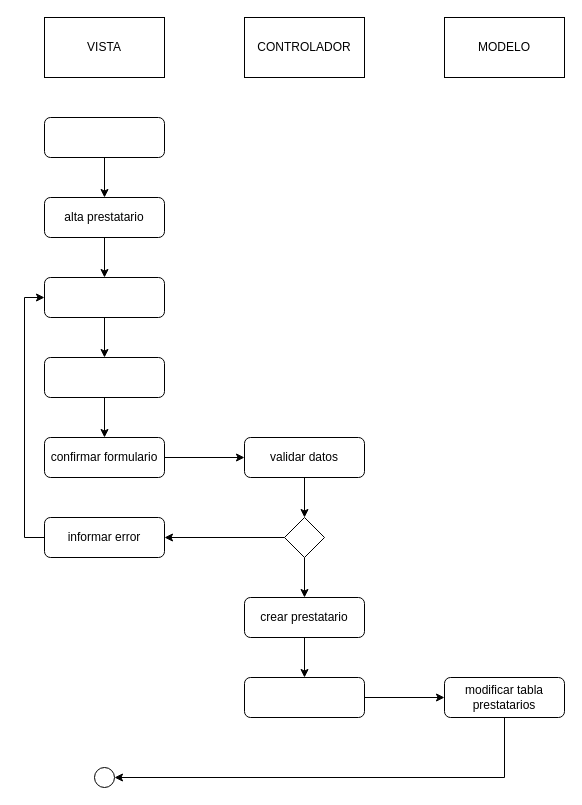
Image size: 582x805. Some labels were removed from this diagram. The shapes that lost their labels are listed below. From the top down, each one's centre as x and y in pixels, then its label:
[104,137]: vista prestatarios
[104,297]: mostrar formulario
[104,377]: completar formulario
[304,697]: añadir prestatario
